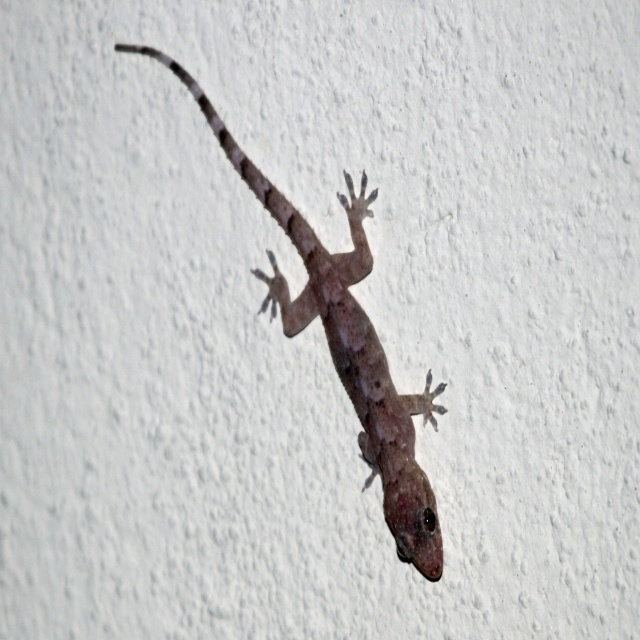Lizard: (121, 23, 463, 600)
